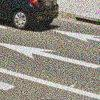cars: (0, 0, 59, 32)
